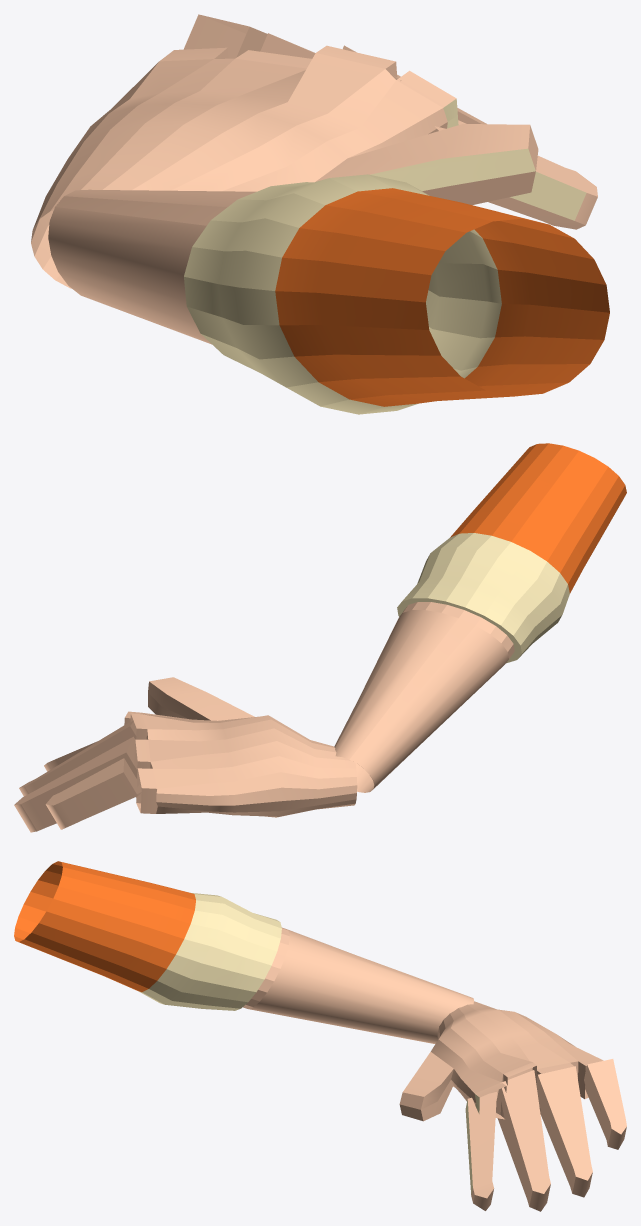
Rendered from brazoizq.obj.
3 renders of one model, top to bottom at view 1: azimuth 30°, elevation 25°; view 2: azimuth 150°, elevation 25°; view 3: azimuth 270°, elevation 25°, orthographic. The views are drawn at different scales.
Visible parts, largest first — view 1: polySurface20; view 2: polySurface20; view 3: polySurface20.
Part boxes in pixels (<box>): polySurface20: <box>31,14,609,414</box>; polySurface20: <box>14,443,626,832</box>; polySurface20: <box>14,861,626,1211</box>.
Bounding box in the file's own units: 0.5054 × 0.3353 × 0.8254.
Materials: 1 (1 with a texture image).
